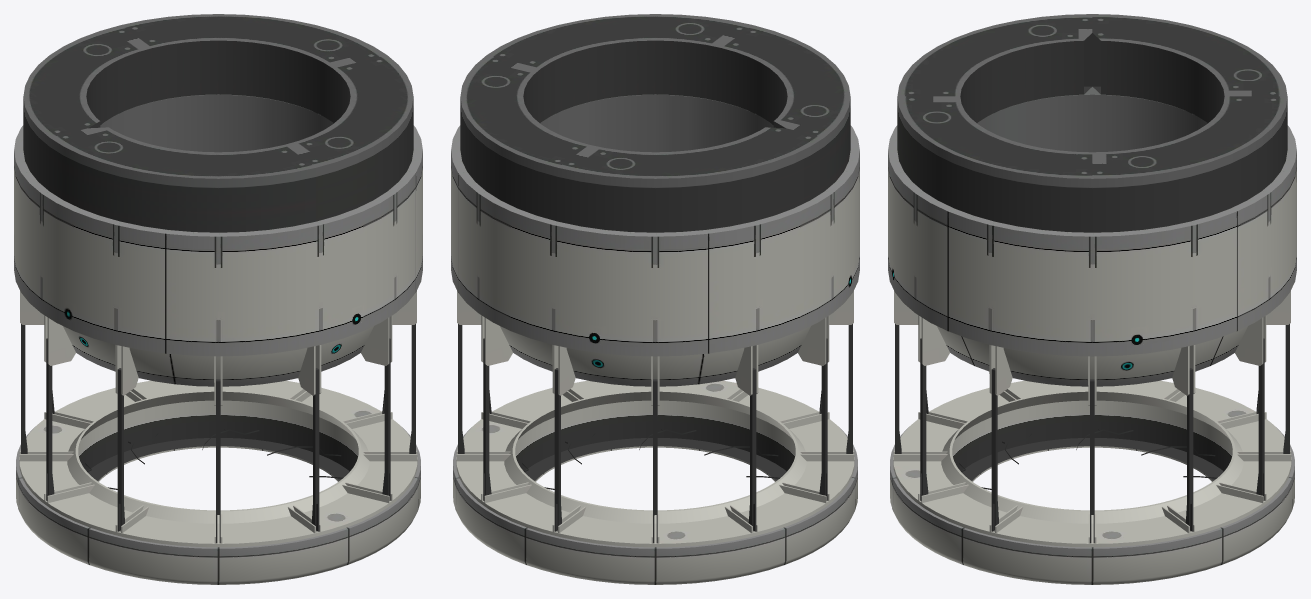
Rendered from cube_dispenser.glb.
3 views of the same model, side by side, from view 1: azimuth 30°, elevation 25°; view 2: azimuth 150°, elevation 25°; view 3: azimuth 270°, elevation 25° (orthographic).
Visible parts, largest first — view 1: body; view 2: body; view 3: body.
Part boxes in pixels (box(x1,y1,x2,y2)): body: box(14, 14, 422, 584); body: box(451, 14, 859, 584); body: box(888, 14, 1296, 584).
Bounding box in the file's own units: 1.4 × 1.54 × 1.4.
Materials: 1 (1 with a texture image).
